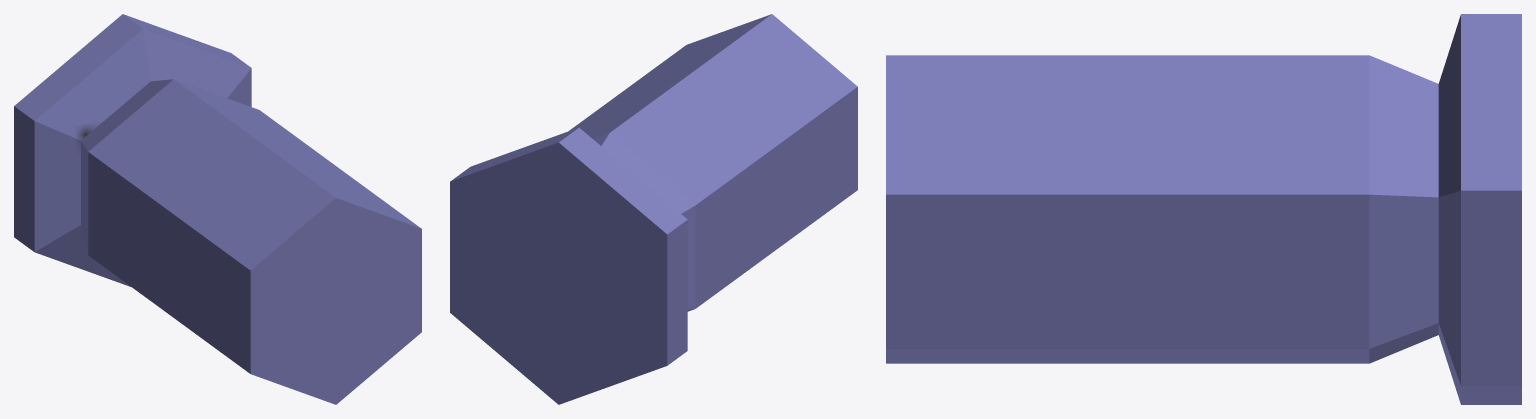
The model's file is pistol_case.glb.
3 renders of one model, left to right at view 1: azimuth 30°, elevation 25°; view 2: azimuth 150°, elevation 25°; view 3: azimuth 270°, elevation 25°, orthographic. The views are drawn at different scales.
Visible parts, largest first — view 1: Casing_official; view 2: Casing_official; view 3: Casing_official.
Part boxes in pixels (x1,y1,x2,y2): Casing_official: (14,14,421,404); Casing_official: (450,14,857,404); Casing_official: (886,14,1521,404).
Bounding box in the file's own units: 0.0141 × 0.0162 × 0.0239.
Materials: 1 (1 with a texture image).
